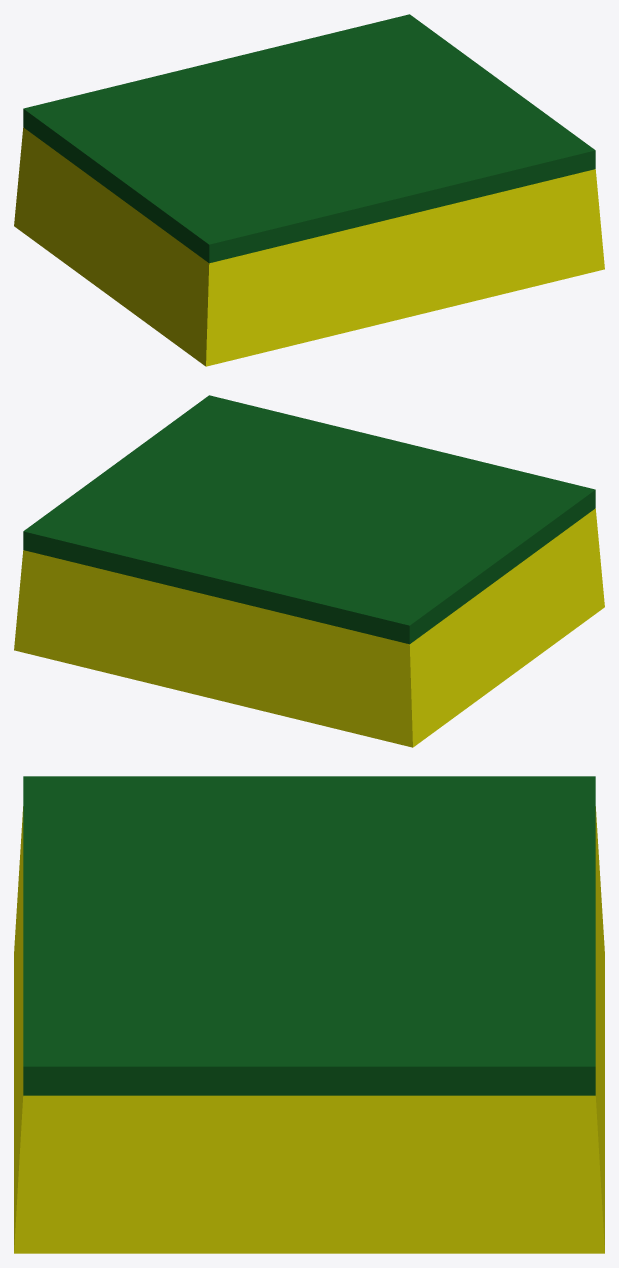
File: Sponge.fbx
3 renders of one model, top to bottom at view 1: azimuth 30°, elevation 25°; view 2: azimuth 150°, elevation 25°; view 3: azimuth 270°, elevation 25°, orthographic. The views are drawn at different scales.
Visible parts, largest first — view 1: Cube.003; view 2: Cube.003; view 3: Cube.003.
Part boxes in pixels (left/top/right/bottom): Cube.003: left=14, top=14, right=604, bottom=366; Cube.003: left=14, top=395, right=604, bottom=747; Cube.003: left=14, top=776, right=604, bottom=1253.
Size of the model in its own units: 30 by 8.5 by 25.
